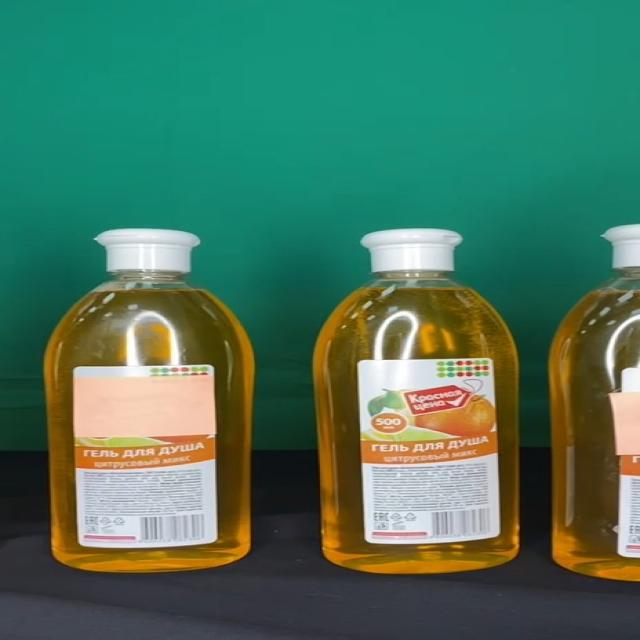Bottle: (44, 228, 255, 572), (312, 229, 518, 574)
Cap: (95, 230, 200, 272), (359, 229, 463, 271)
